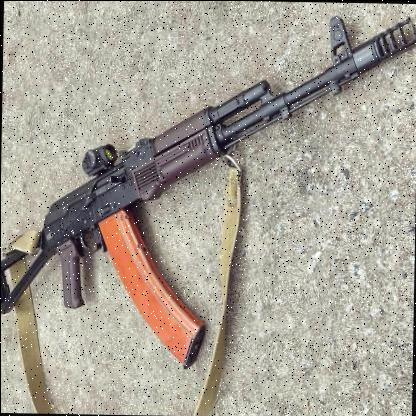rifle: (0, 16, 416, 360)
